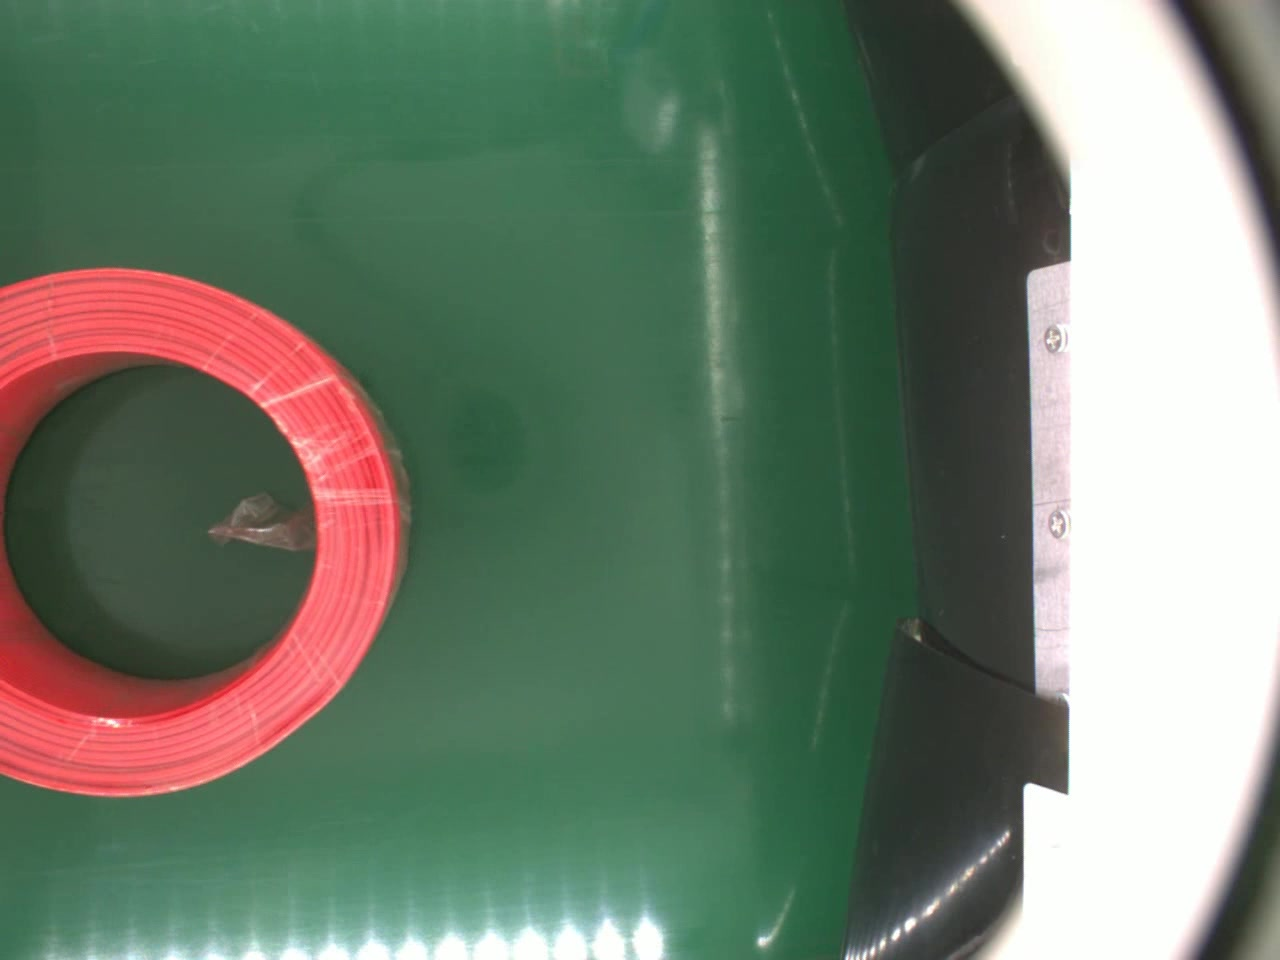red: (0, 262, 416, 799)
